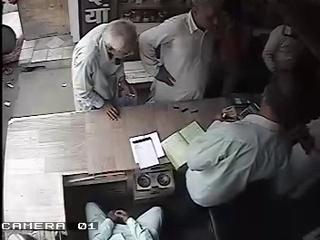Normal: (185, 70, 316, 240), (138, 0, 226, 105), (70, 20, 140, 122), (85, 202, 163, 239)
